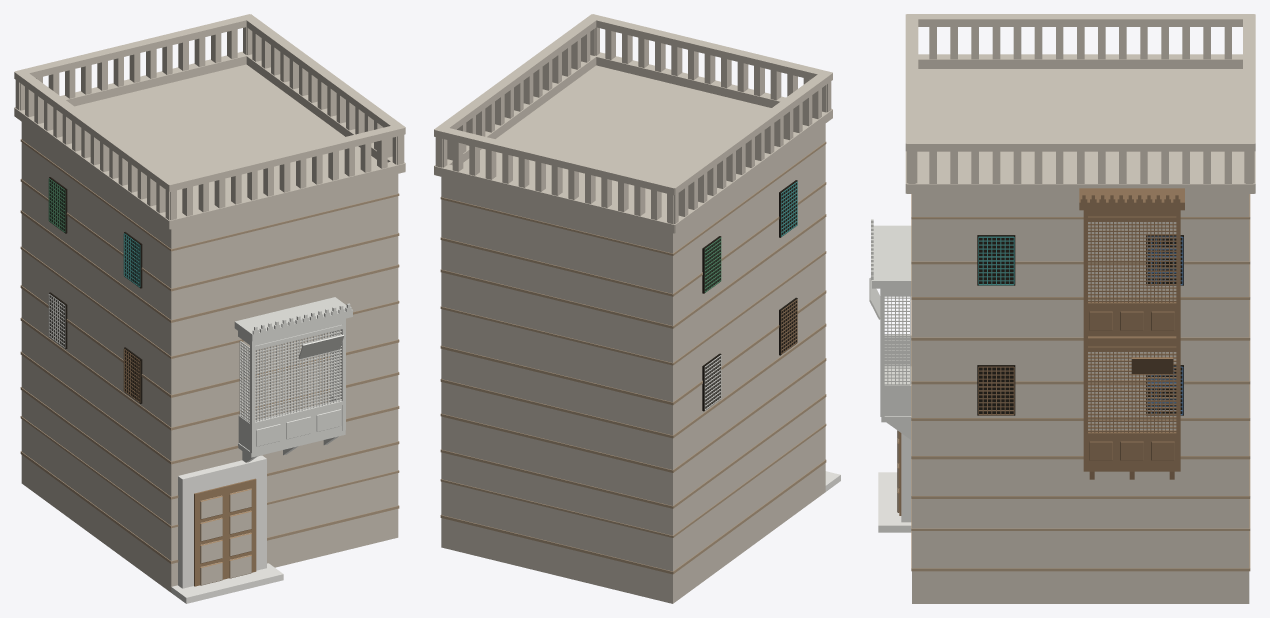
File: SM_HijaziHouse_06.fbx
3 renders of one model, left to right at view 1: azimuth 30°, elevation 25°; view 2: azimuth 150°, elevation 25°; view 3: azimuth 270°, elevation 25°, orthographic. The views are drawn at different scales.
Visible parts, largest first — view 1: SM_HijaziHouse_06; view 2: SM_HijaziHouse_06; view 3: SM_HijaziHouse_06.
Boxes of the visible parts, x1=… form: SM_HijaziHouse_06: x1=14, y1=14, x2=405, y2=603; SM_HijaziHouse_06: x1=434, y1=14, x2=840, y2=603; SM_HijaziHouse_06: x1=869, y1=14, x2=1255, y2=603.
Bounding box in the file's own units: 816 × 1210 × 916.
